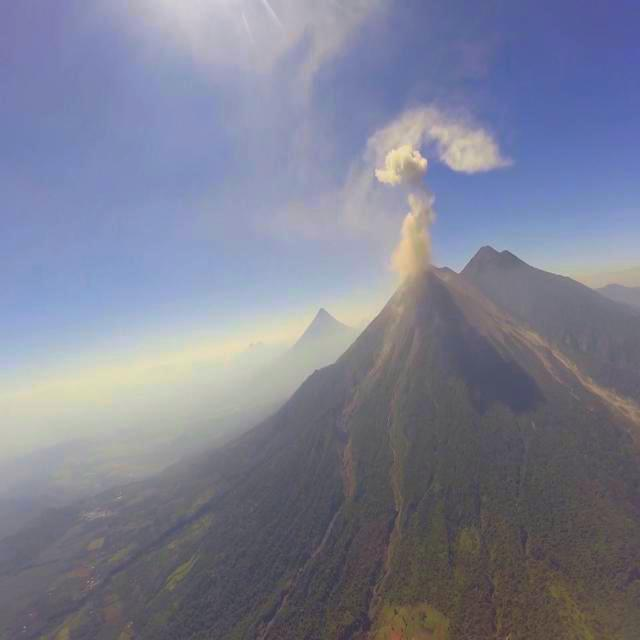Plume: (388, 184, 438, 278), (442, 115, 504, 176), (372, 143, 428, 190)
